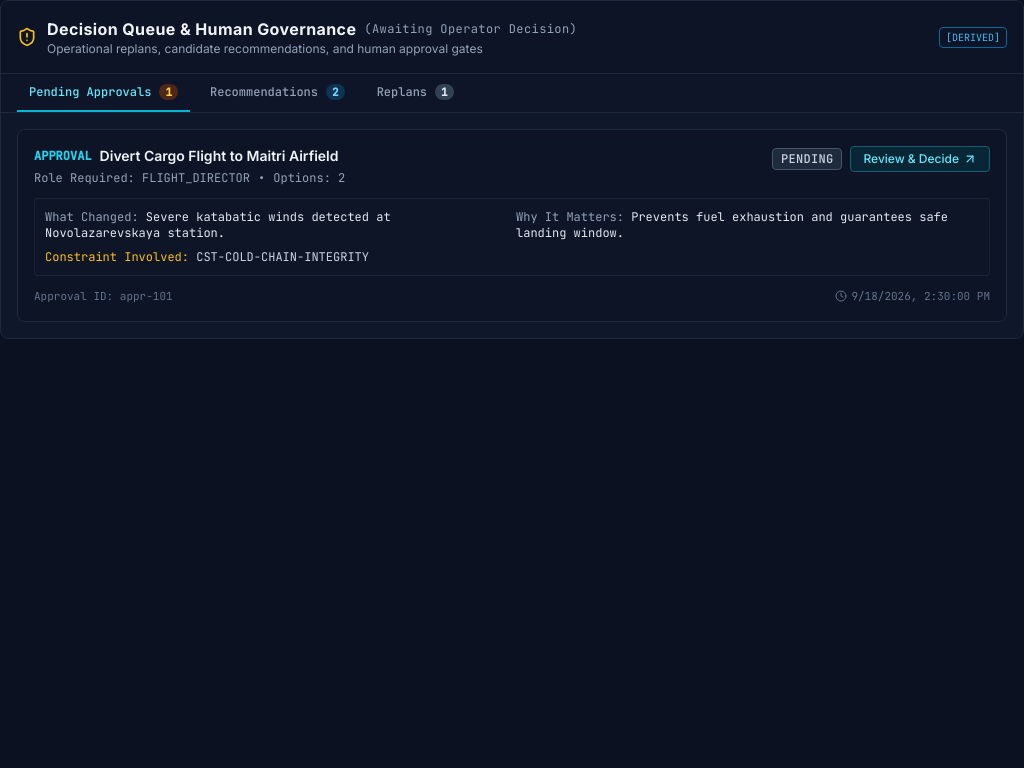
Test case: DecisionQueuePanel › opens ApprovalModal when Review & Decide button is clicked
Click the button "Review & Decide" at (920, 159), box x1=850 y1=146 x2=990 y2=172
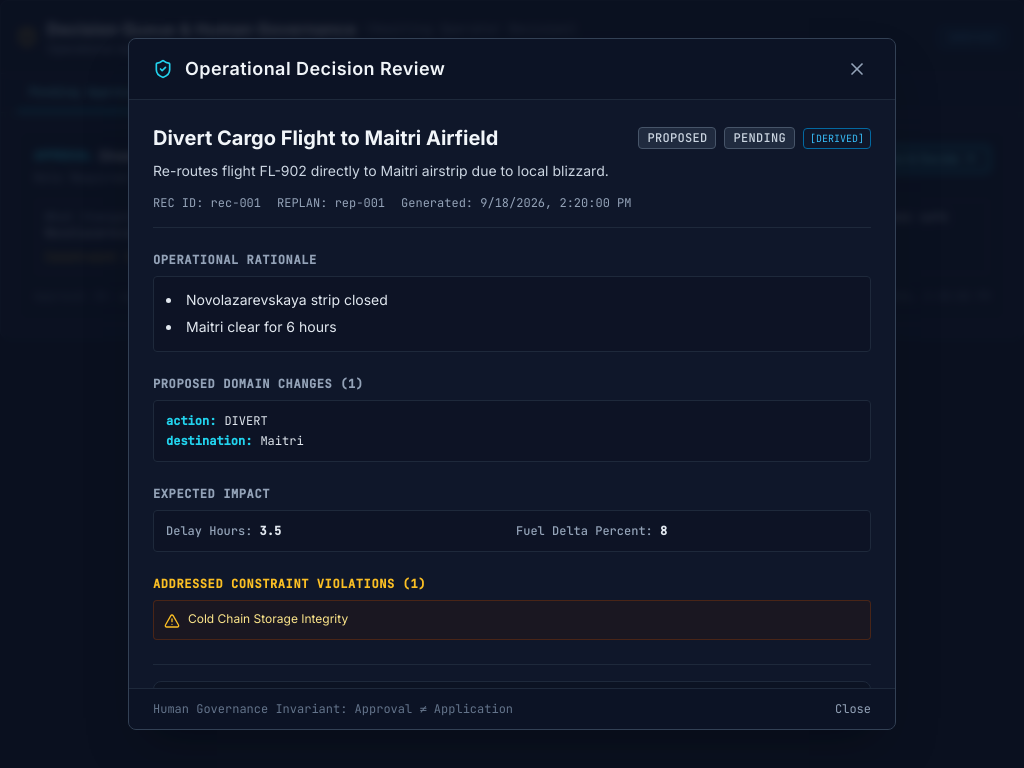
Result: the dialog is shown
Result: the heading "Operational Decision Review" is shown at x1=185 y1=55 x2=445 y2=83
